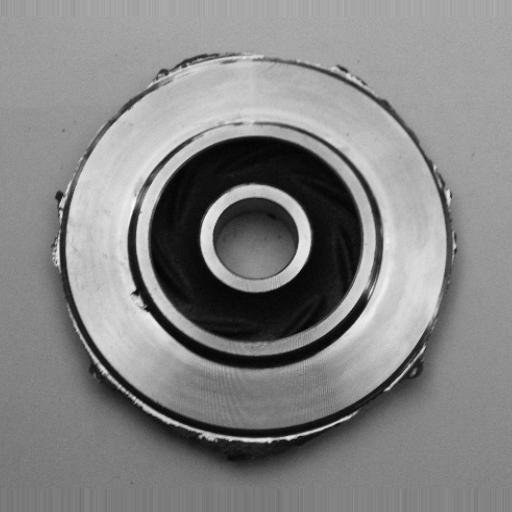casting_with_burr: (48, 46, 457, 466)
crack: (127, 282, 161, 317)
scratch: (202, 107, 271, 135)
